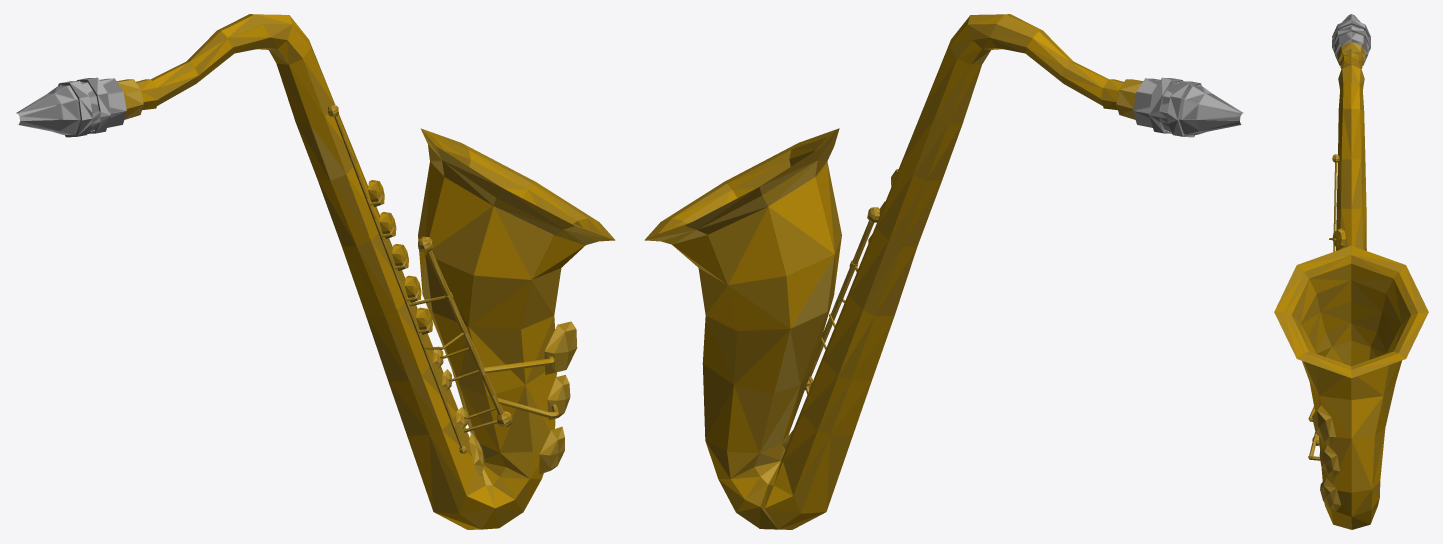
The model's file is saxophone.glb.
The picture shows the model from 3 angles, left to right: view 1: azimuth 30°, elevation 25°; view 2: azimuth 150°, elevation 25°; view 3: azimuth 270°, elevation 25°; orthographic projection. The views are drawn at different scales.
Bounding box in the file's own units: 0.0803 × 0.0747 × 0.0271.
Materials: 1 (1 with a texture image).
